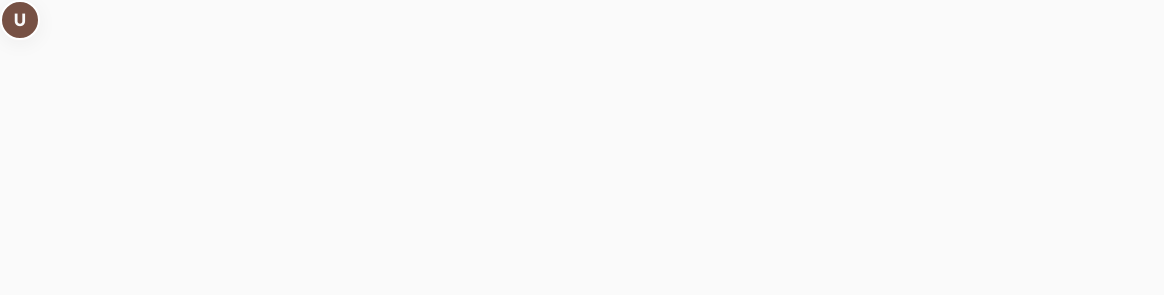
Test: ProfileMenu Integration › abre el menú y muestra la información del usuario
Click the text "U": (20, 20) [0,0,40,40]
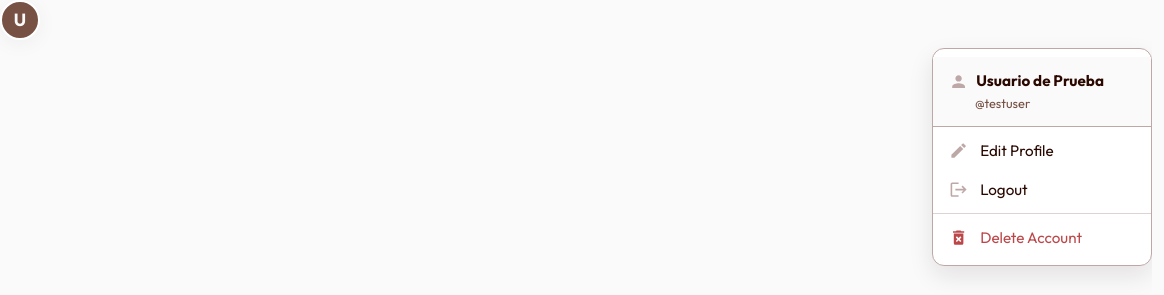
Expected: the text "Usuario de Prueba" is shown, [976,69,1104,93]
Expected: the text "Edit Profile" is shown, [980,141,1054,160]
Expected: the text "Logout" is shown, [980,180,1028,199]
